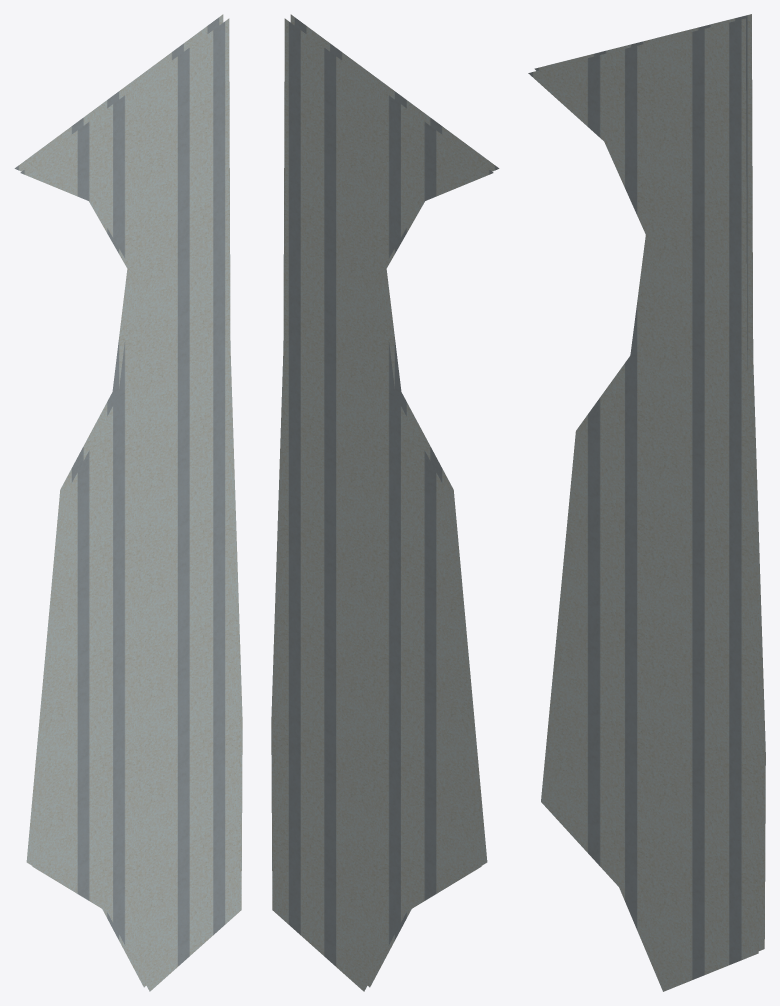
The model's file is floor_64.obj.
3 renders of one model, left to right at view 1: azimuth 30°, elevation 25°; view 2: azimuth 150°, elevation 25°; view 3: azimuth 330°, elevation 25°, orthographic. The views are drawn at different scales.
Visible parts, largest first — view 1: floor_64; view 2: floor_64; view 3: floor_64.
Boxes of the visible parts, <box> form: floor_64: <box>14,14,242,991</box>; floor_64: <box>271,14,499,991</box>; floor_64: <box>528,14,765,991</box>.
Size of the model in its own units: 2.22 by 9.1 by 0.1.
Materials: 1 (1 with a texture image).
